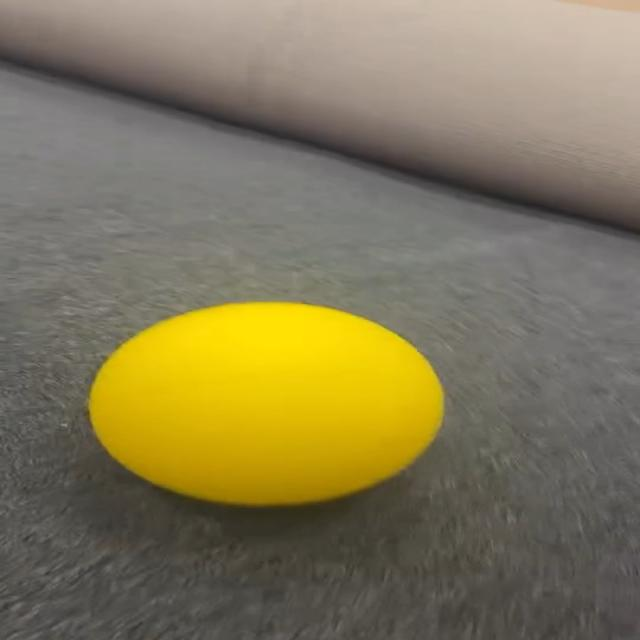Fuels: (90, 302, 443, 506)
